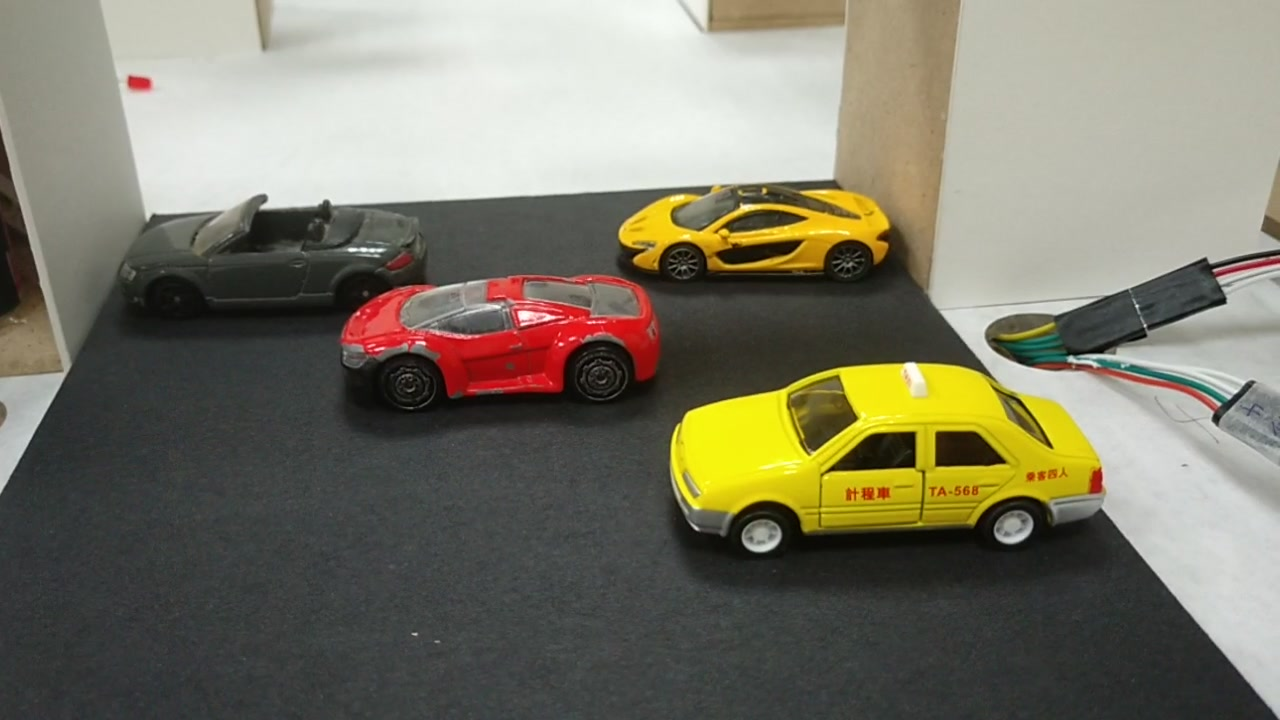car: (659, 353, 1103, 555), (331, 274, 655, 398), (122, 206, 430, 311), (610, 180, 893, 279)
